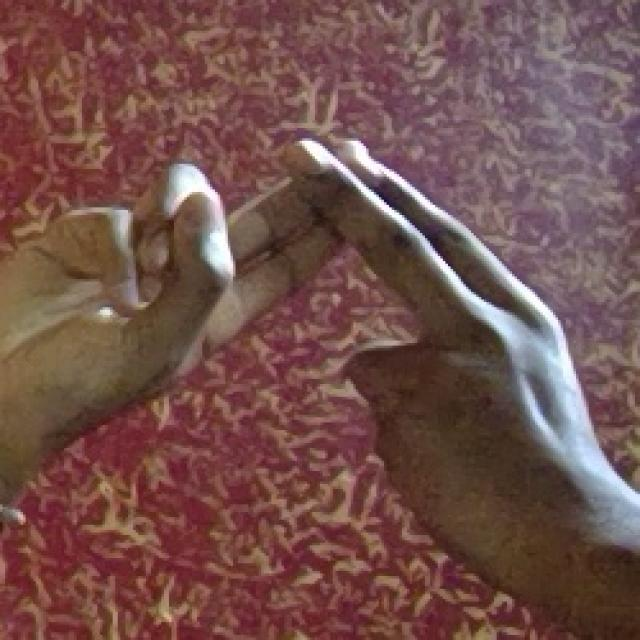Alphabet-F: (17, 130, 608, 610)
